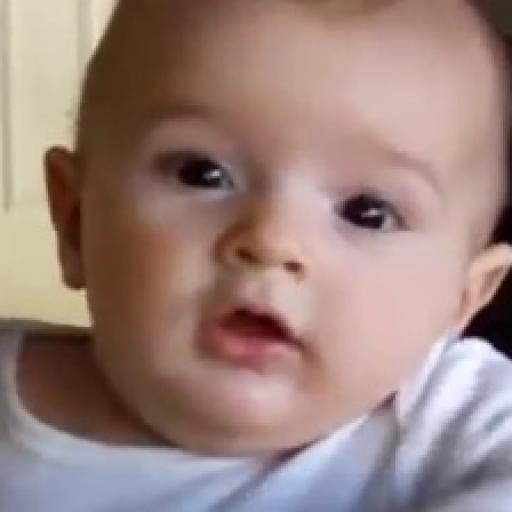Autism: (96, 0, 500, 465)
